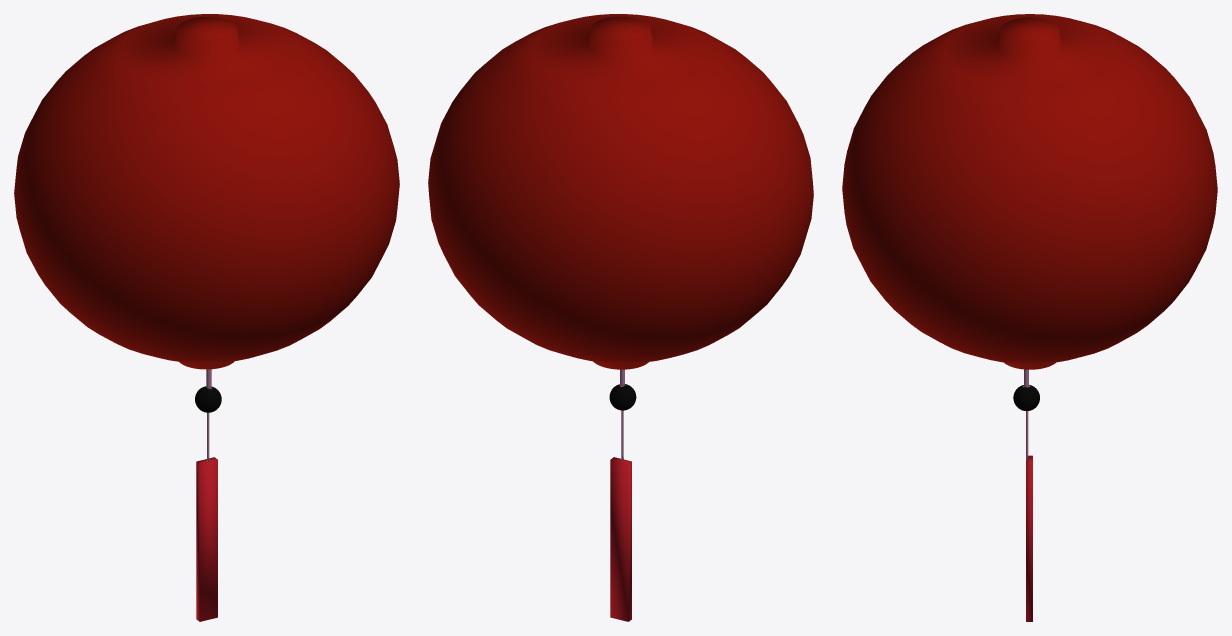
File: chouchin.glb
The picture shows the model from 3 angles, left to right: view 1: azimuth 30°, elevation 25°; view 2: azimuth 150°, elevation 25°; view 3: azimuth 270°, elevation 25°; orthographic projection.
Parts seen in each view (by area): view 1: lamp; view 2: lamp; view 3: lamp.
Part boxes in pixels (bbox=[...]): lamp: bbox=[14, 14, 399, 621]; lamp: bbox=[428, 14, 813, 621]; lamp: bbox=[842, 14, 1217, 621].
Bounding box in the file's own units: 0.5582 × 0.9359 × 0.5406.
